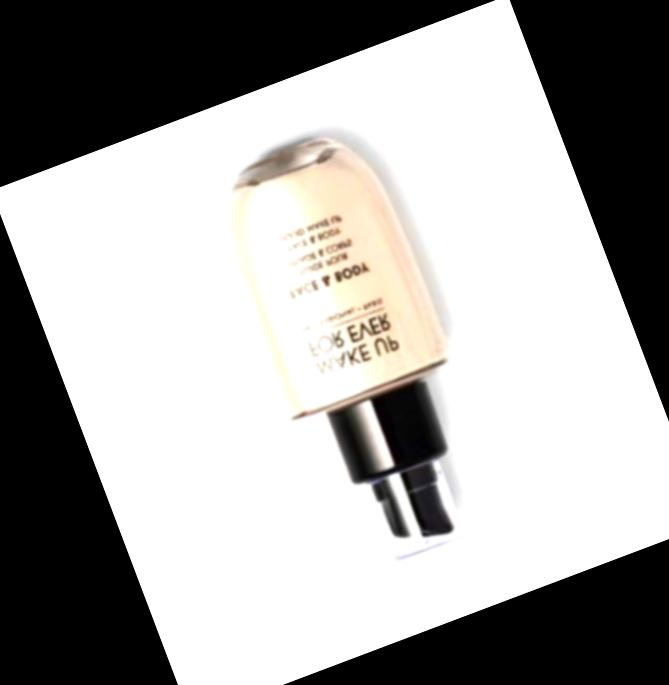cosmetic: (198, 116, 516, 581)
